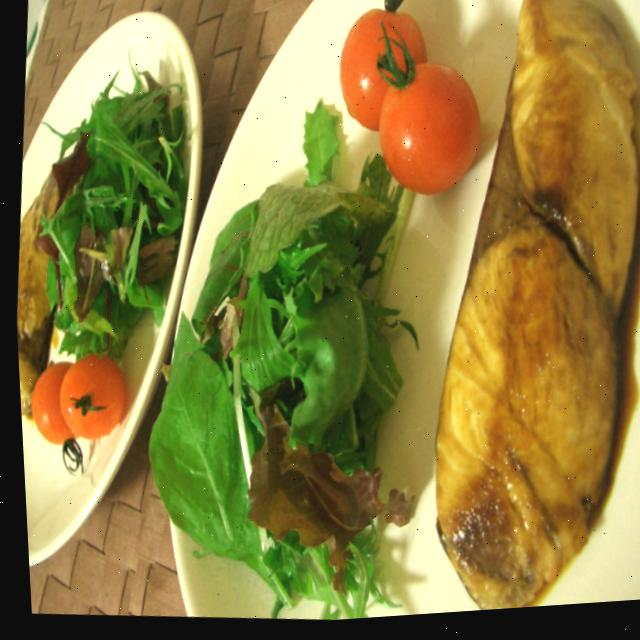熟制海鲜: (380, 0, 640, 620)
